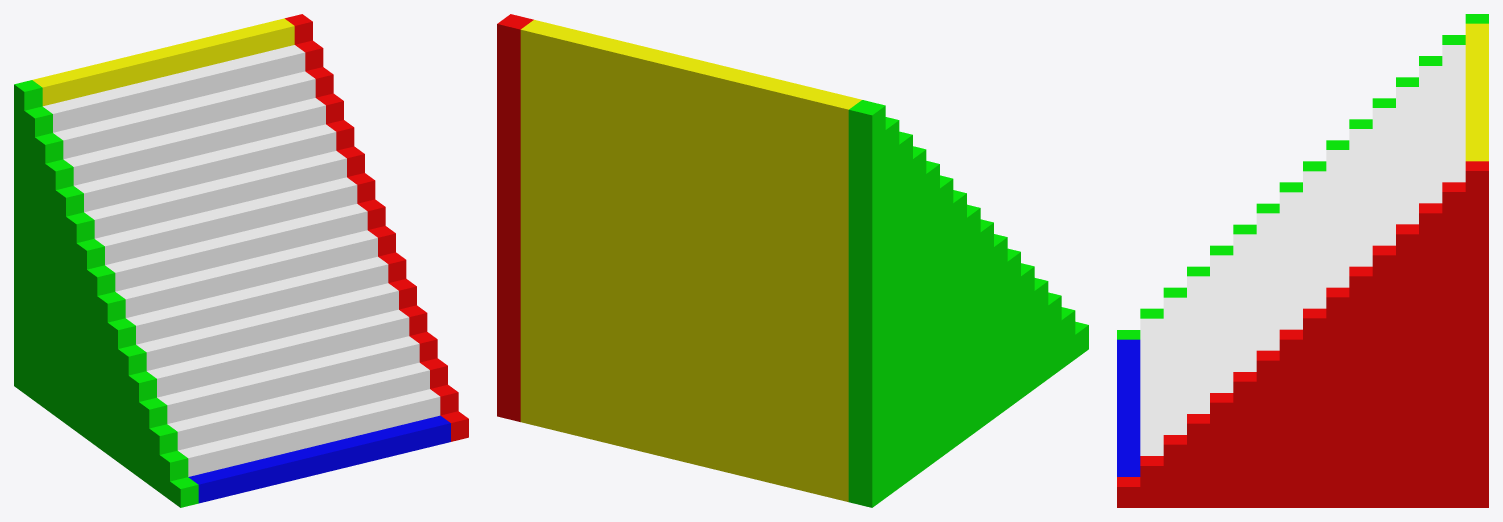
The model's file is 16voxCube.obj.
3 renders of one model, left to right at view 1: azimuth 30°, elevation 25°; view 2: azimuth 150°, elevation 25°; view 3: azimuth 270°, elevation 25°, orthographic. The views are drawn at different scales.
Bounding box in the file's own units: 1.6 × 1.6 × 1.6.
Materials: 1 (1 with a texture image).
